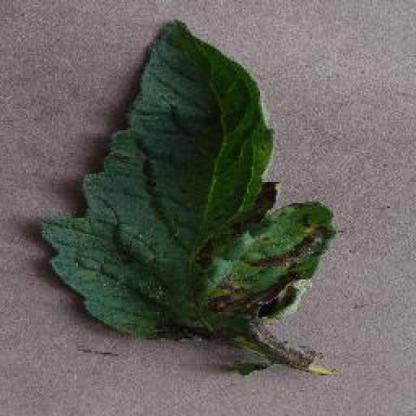Tomato_Blight: (42, 20, 336, 336)
